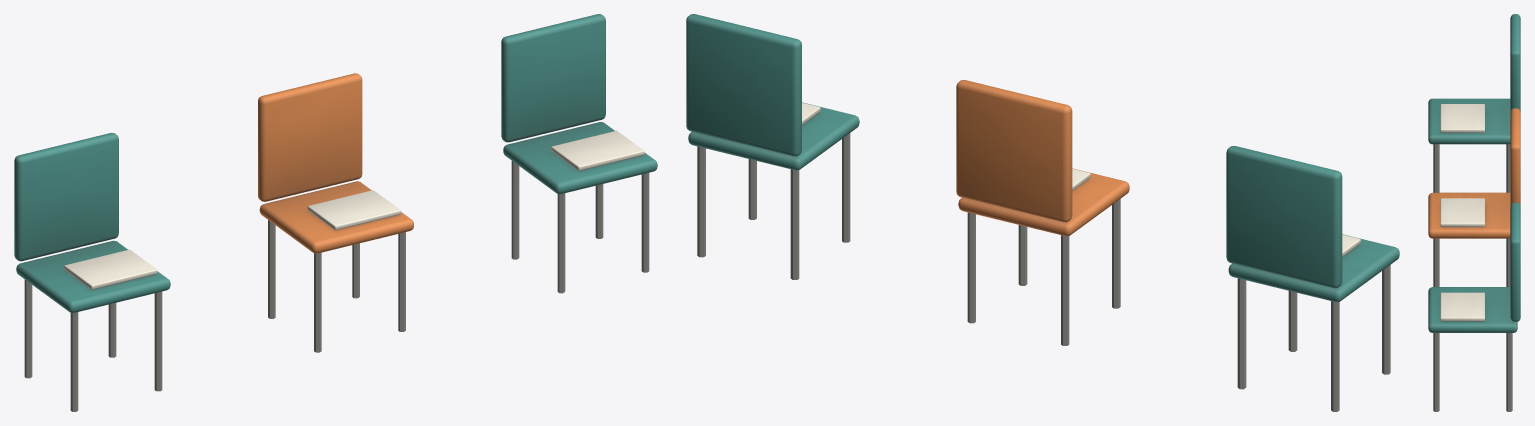
The model's file is TrainingChairs.fbx.
The picture shows the model from 3 angles, left to right: view 1: azimuth 30°, elevation 25°; view 2: azimuth 150°, elevation 25°; view 3: azimuth 270°, elevation 25°; orthographic projection. The views are drawn at different scales.
Parts seen in each view (by area): view 1: TrainingChairs; view 2: TrainingChairs; view 3: TrainingChairs.
Boxes of the visible parts, left/top/right/bottom form: TrainingChairs: left=14, top=14, right=657, bottom=411; TrainingChairs: left=686, top=14, right=1399, bottom=411; TrainingChairs: left=1428, top=14, right=1520, bottom=411.
Bounding box in the file's own units: 266 × 94.5 × 45.5.
